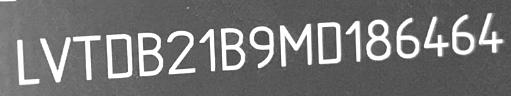letter: (276, 24, 317, 69), (102, 31, 136, 79), (38, 34, 72, 82), (11, 35, 43, 86), (419, 14, 452, 63), (164, 28, 198, 75), (216, 25, 249, 72), (245, 25, 278, 71), (71, 31, 103, 78), (315, 20, 346, 68), (392, 16, 422, 65), (136, 30, 166, 78), (365, 17, 394, 66), (449, 13, 479, 56), (476, 11, 505, 55), (341, 19, 366, 68), (196, 25, 219, 74)
